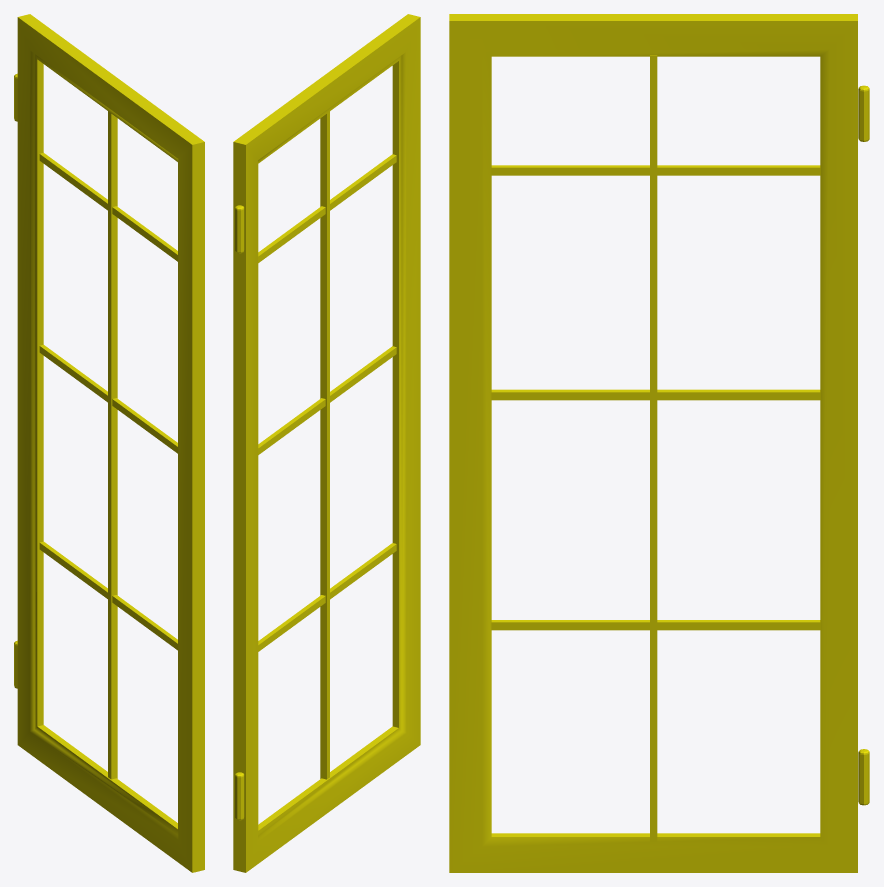
Rendered from Window_Large_Left_Door.fbx.
The picture shows the model from 3 angles, left to right: view 1: azimuth 30°, elevation 25°; view 2: azimuth 150°, elevation 25°; view 3: azimuth 270°, elevation 25°; orthographic projection. The views are drawn at different scales.
Visible parts, largest first — view 1: Window_Large_Left_Door; view 2: Window_Large_Left_Door; view 3: Window_Large_Left_Door.
Boxes of the visible parts, bbox=[...] form: Window_Large_Left_Door: bbox=[14, 14, 204, 872]; Window_Large_Left_Door: bbox=[233, 14, 420, 872]; Window_Large_Left_Door: bbox=[449, 14, 869, 872].
Size of the model in its own units: 5.64 by 301 by 135.
